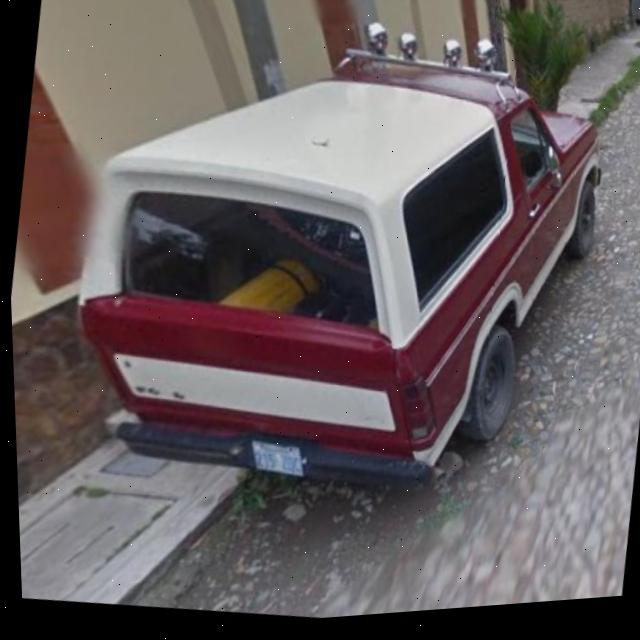vehicle: (50, 0, 616, 542)
